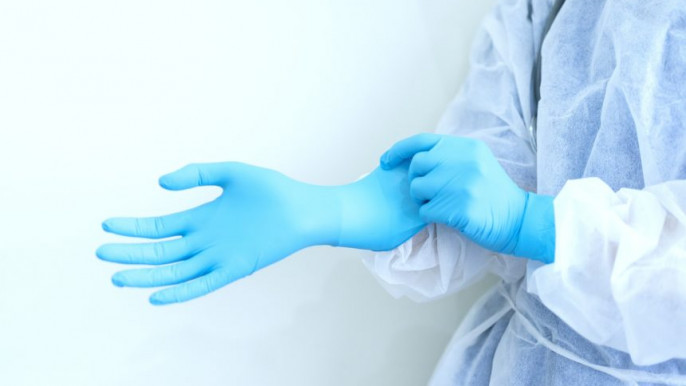Gloves: (96, 151, 353, 311), (374, 131, 556, 268)
